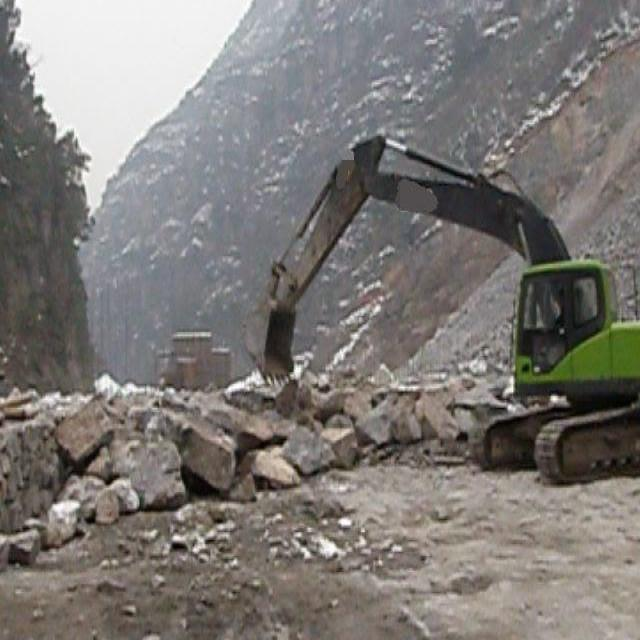excavator: (246, 124, 640, 500)
